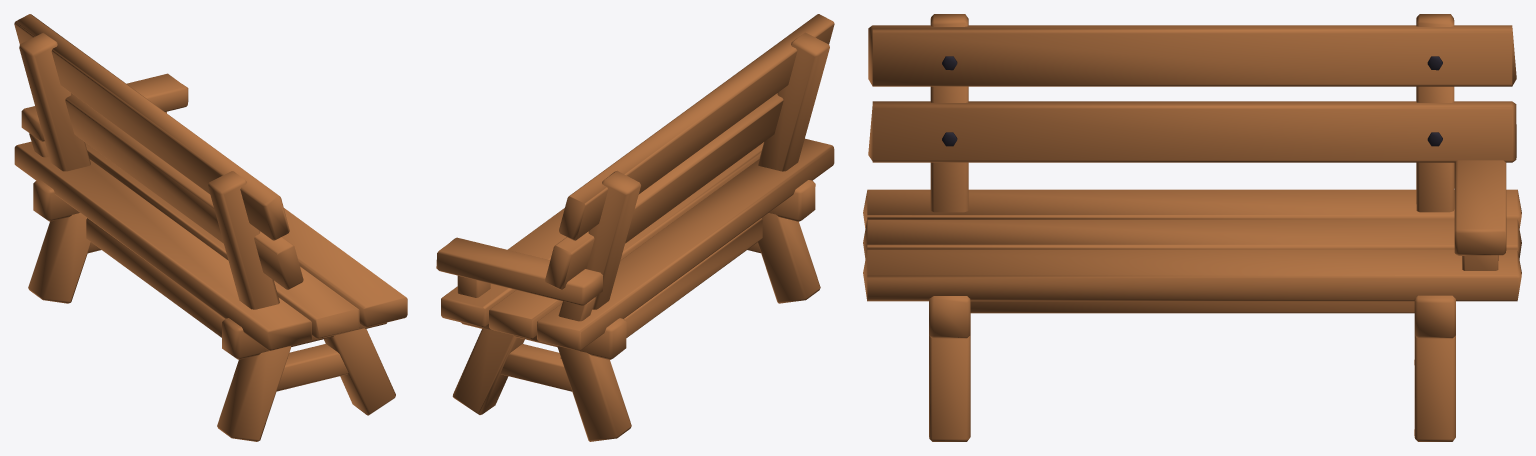
3 renders of one model, left to right at view 1: azimuth 30°, elevation 25°; view 2: azimuth 150°, elevation 25°; view 3: azimuth 270°, elevation 25°, orthographic. The views are drawn at different scales.
Visible parts, largest first — view 1: body; view 2: body; view 3: body, object 1.
Boxes of the visible parts, x1,y1,x2,y2 form: body: (14, 14, 407, 441); body: (436, 14, 834, 441); body: (863, 14, 1521, 441); object 1: (942, 56, 1442, 146).
Bounding box in the file's own units: 0.7542 × 1.09 × 1.9.
